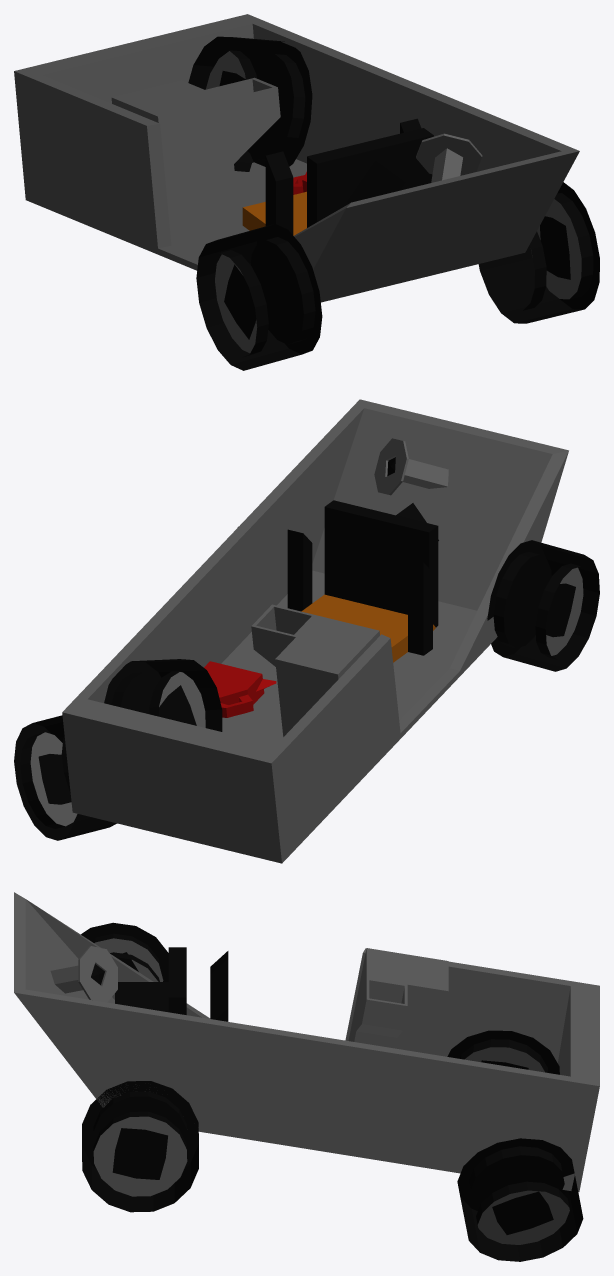
File: broken car.fbx
3 views of the same model, one above another, from view 1: azimuth 30°, elevation 25°; view 2: azimuth 150°, elevation 25°; view 3: azimuth 270°, elevation 25° (orthographic). The views are drawn at different scales.
Visible parts, largest first — view 1: Куб, Куб.004, Окружность.003, Куб.001, Окружность.004, Окружность.002, Куб.002; view 2: Куб, Куб.001, Окружность.003, Куб.004, Окружность.006, Окружность.002, Куб.002, Куб.005; view 3: Куб, Окружность.004, Окружность.006, Куб.004, Куб.001, Окружность.002, Окружность.003, Куб.002.
Part boxes in pixels (box(x1,y1,x2,y2)): Куб: box(14, 14, 579, 302); Куб.004: box(111, 77, 280, 244); Окружность.003: box(196, 224, 322, 370); Куб.001: box(242, 118, 433, 235); Окружность.004: box(478, 182, 599, 323); Окружность.002: box(188, 36, 312, 171); Куб.002: box(416, 133, 482, 182); Куб: box(62, 399, 568, 863); Куб.001: box(287, 500, 438, 662); Окружность.003: box(487, 540, 599, 671); Куб.004: box(251, 604, 379, 736); Окружность.006: box(14, 715, 116, 840); Окружность.002: box(104, 659, 222, 731); Куб.002: box(374, 438, 448, 495); Куб.005: box(204, 661, 276, 717); Куб: box(14, 892, 599, 1192); Окружность.004: box(82, 1081, 198, 1212); Окружность.006: box(457, 1138, 583, 1261); Куб.004: box(348, 948, 448, 1054); Куб.001: box(115, 947, 228, 1021); Окружность.002: box(447, 1030, 559, 1074); Окружность.003: box(81, 922, 168, 981); Куб.002: box(50, 946, 117, 1002).
Bounding box in the file's own units: 651 × 481 × 985.
